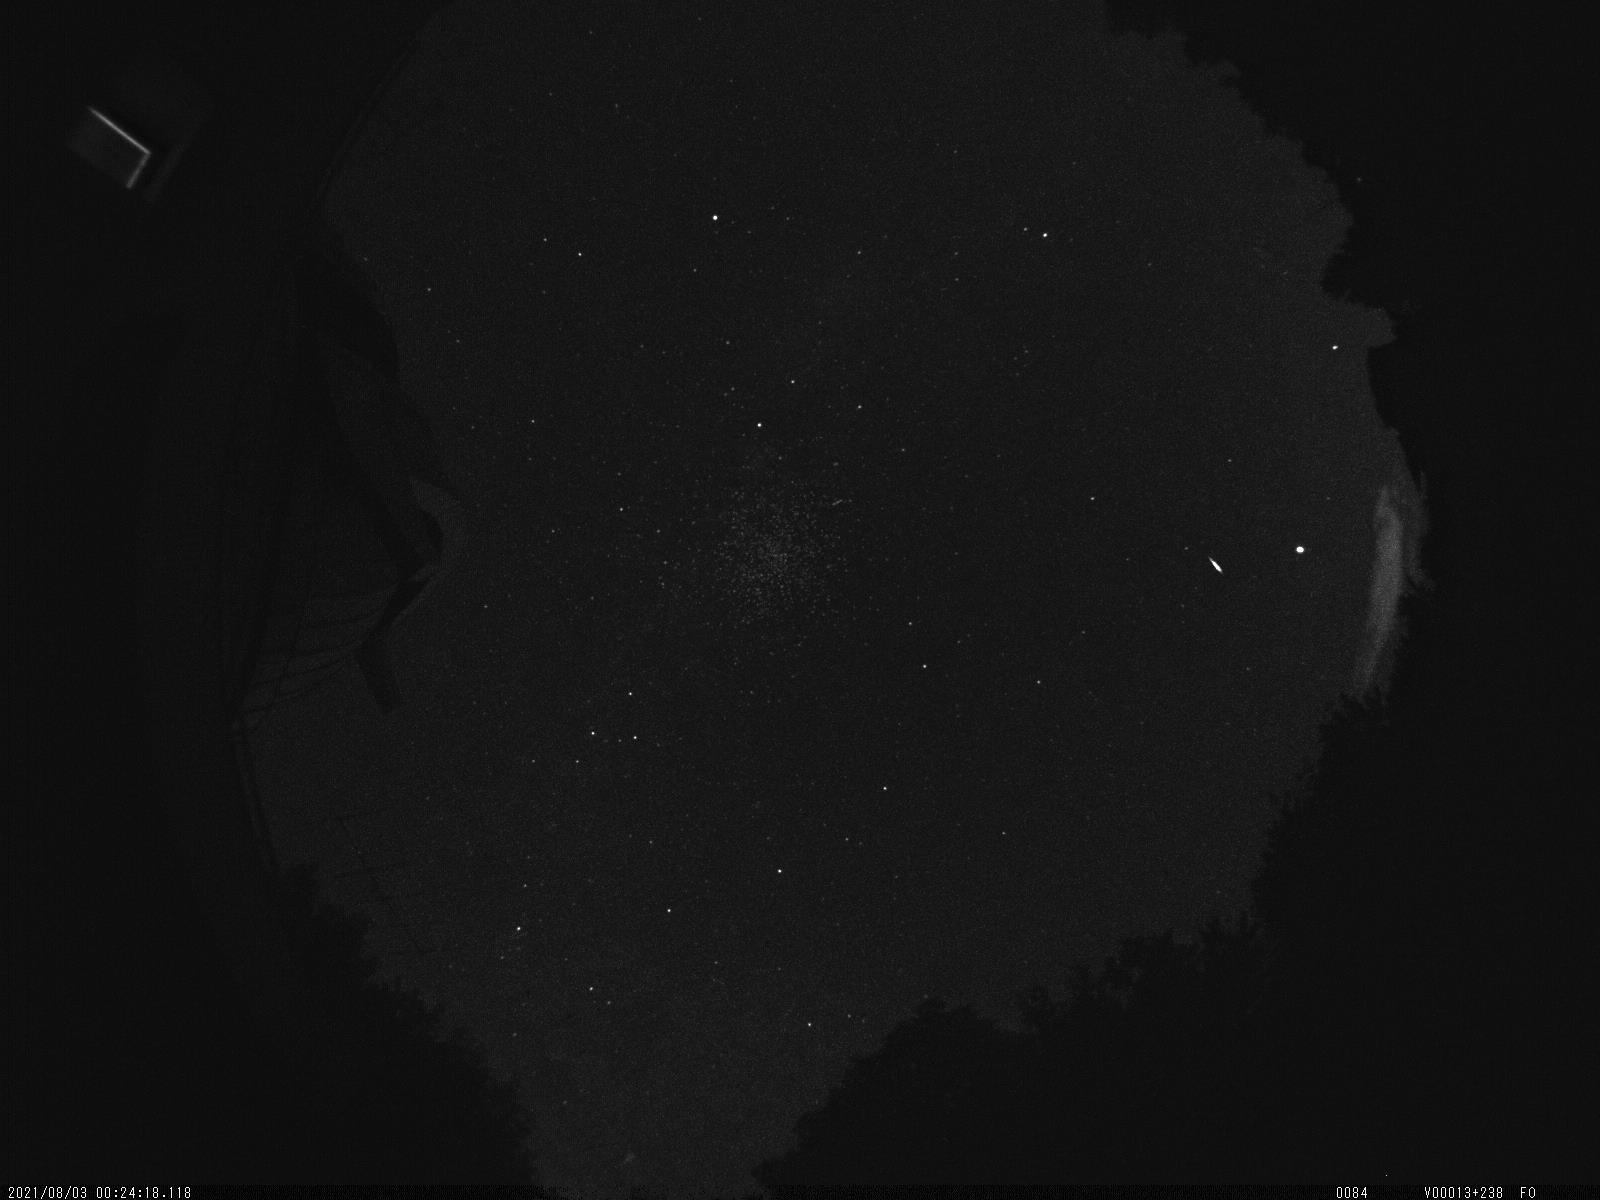Meteor: (1204, 549, 1231, 582)
